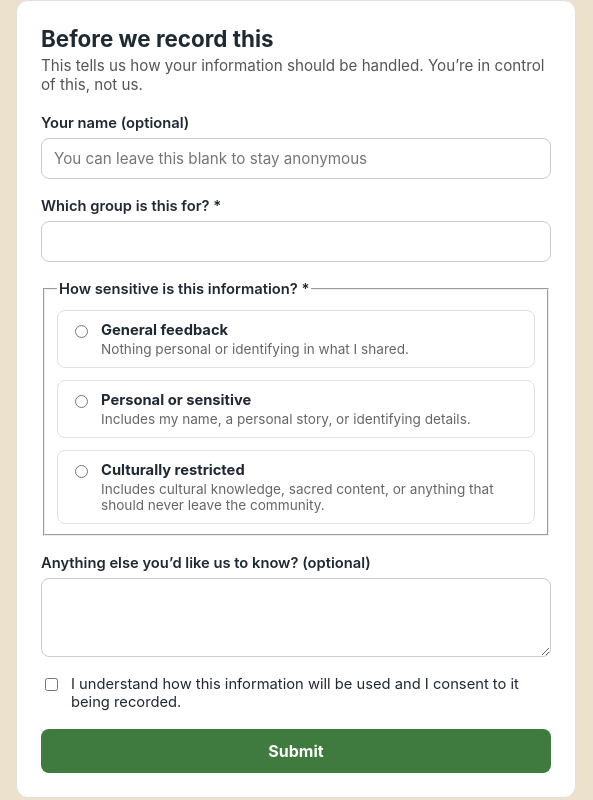
Scenario: ConsentCaptureForm validation (Sub Task 22.2) › does not submit if group name is empty
Click the button "Submit".
click(296, 751)  # box [41,729,551,773]
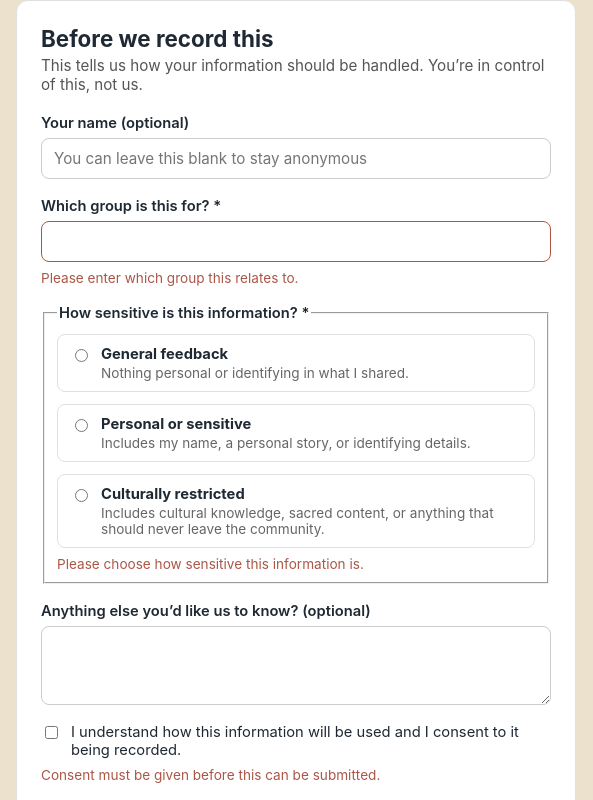
Expected: the text "Please enter which group this relates to." is shown, [41,270,298,286]
